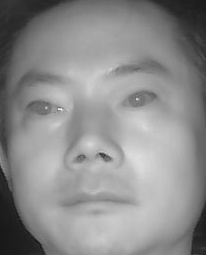eye: (25, 97, 69, 122), (114, 89, 159, 113)
mouth: (61, 180, 134, 221)
